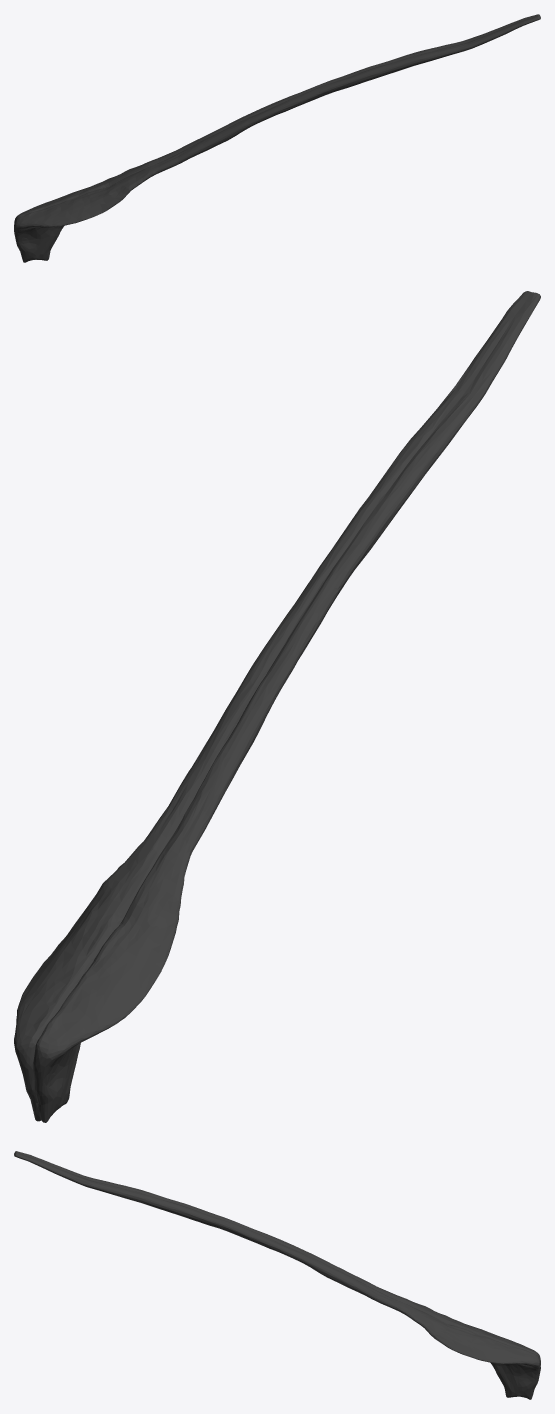
Rendered from lig_nuchal_funicular.glb.
3 views of the same model, one above another, from view 1: azimuth 90°, elevation 25°; view 2: azimuth 150°, elevation 25°; view 3: azimuth 270°, elevation 25° (orthographic). The views are drawn at different scales.
Visible parts, largest first — view 1: lig_nuchal_funicular; view 2: lig_nuchal_funicular; view 3: lig_nuchal_funicular.
Boxes of the visible parts, <box> form: lig_nuchal_funicular: <box>14,14,540,262</box>; lig_nuchal_funicular: <box>14,291,540,1122</box>; lig_nuchal_funicular: <box>14,1151,540,1399</box>.
Size of the model in its own units: 0.00126 by 0.00529 by 0.0103.
Materials: 1 (1 with a texture image).
